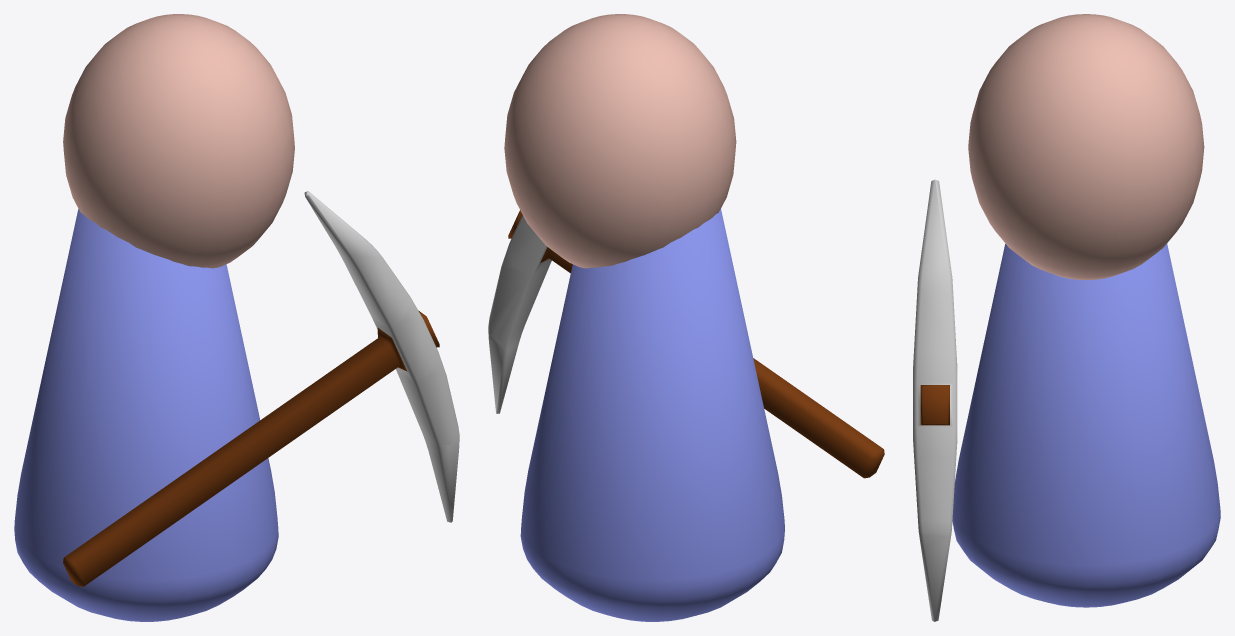
The model's file is Mineur.fbx.
3 views of the same model, side by side, from view 1: azimuth 30°, elevation 25°; view 2: azimuth 150°, elevation 25°; view 3: azimuth 270°, elevation 25° (orthographic).
Visible parts, largest first — view 1: Sphere, Cube.001; view 2: Sphere, Cube.001; view 3: Sphere, Cube.001.
Part boxes in pixels (x1=…): Sphere: x1=14, y1=14, x2=294, y2=621; Cube.001: x1=63, y1=191, x2=459, y2=586; Sphere: x1=504, y1=14, x2=784, y2=621; Cube.001: x1=488, y1=210, x2=884, y2=478; Sphere: x1=952, y1=14, x2=1220, y2=607; Cube.001: x1=913, y1=179, x2=957, y2=621.
Size of the model in its own units: 192 by 270 by 130.
